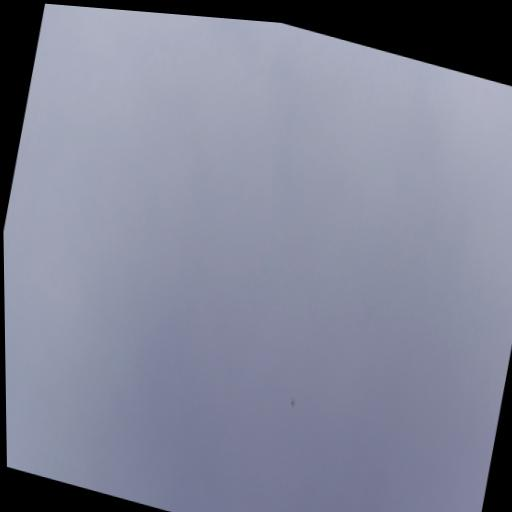drones: (288, 395, 298, 410)
